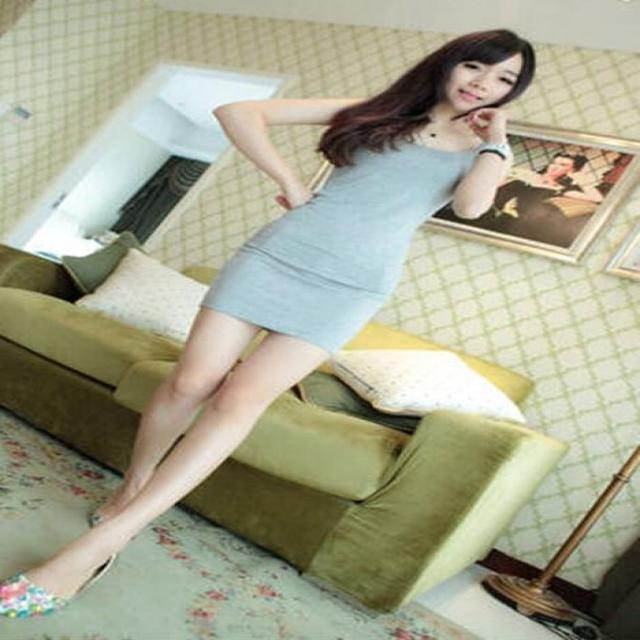vest dress: (202, 104, 498, 353)
